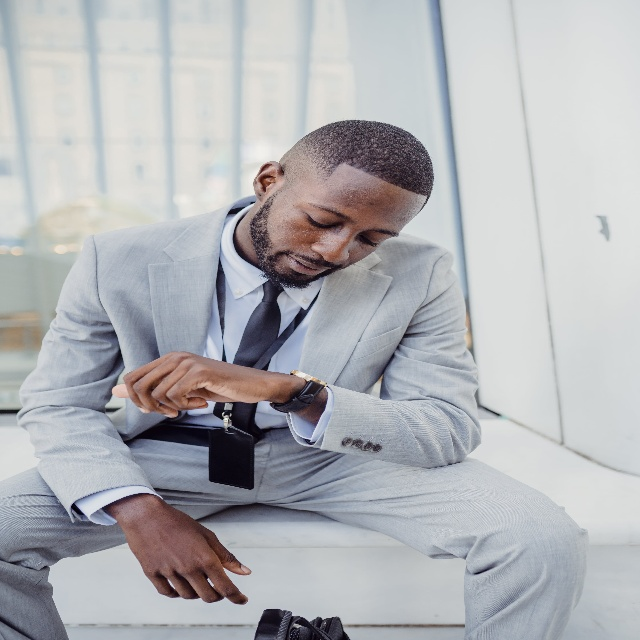Sin_guantes: (121, 497, 253, 606), (108, 350, 292, 420)
